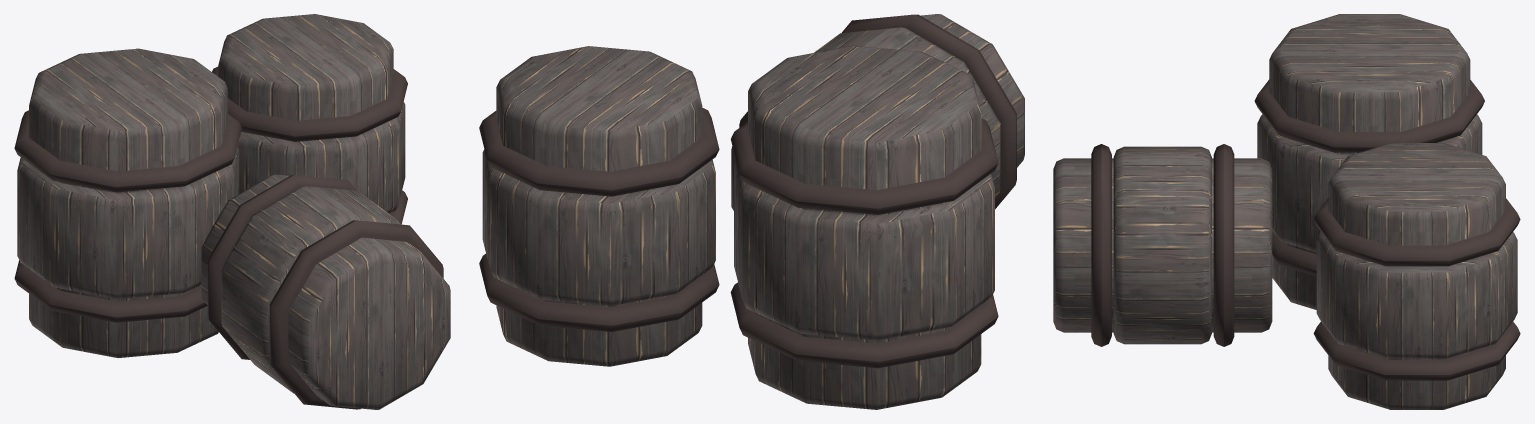
Rendered from barrel_pair.gltf.
3 renders of one model, left to right at view 1: azimuth 30°, elevation 25°; view 2: azimuth 150°, elevation 25°; view 3: azimuth 270°, elevation 25°, orthographic. The views are drawn at different scales.
Visible parts, largest first — view 1: barrel_pair; view 2: barrel_pair; view 3: barrel_pair.
Boxes of the visible parts, left/top/right/bottom form: barrel_pair: left=14, top=14, right=450, bottom=409; barrel_pair: left=479, top=14, right=1024, bottom=409; barrel_pair: left=1053, top=14, right=1520, bottom=409.
Bounding box in the file's own units: 1.48 × 0.91 × 1.58.
Materials: 2 (2 with a texture image).
